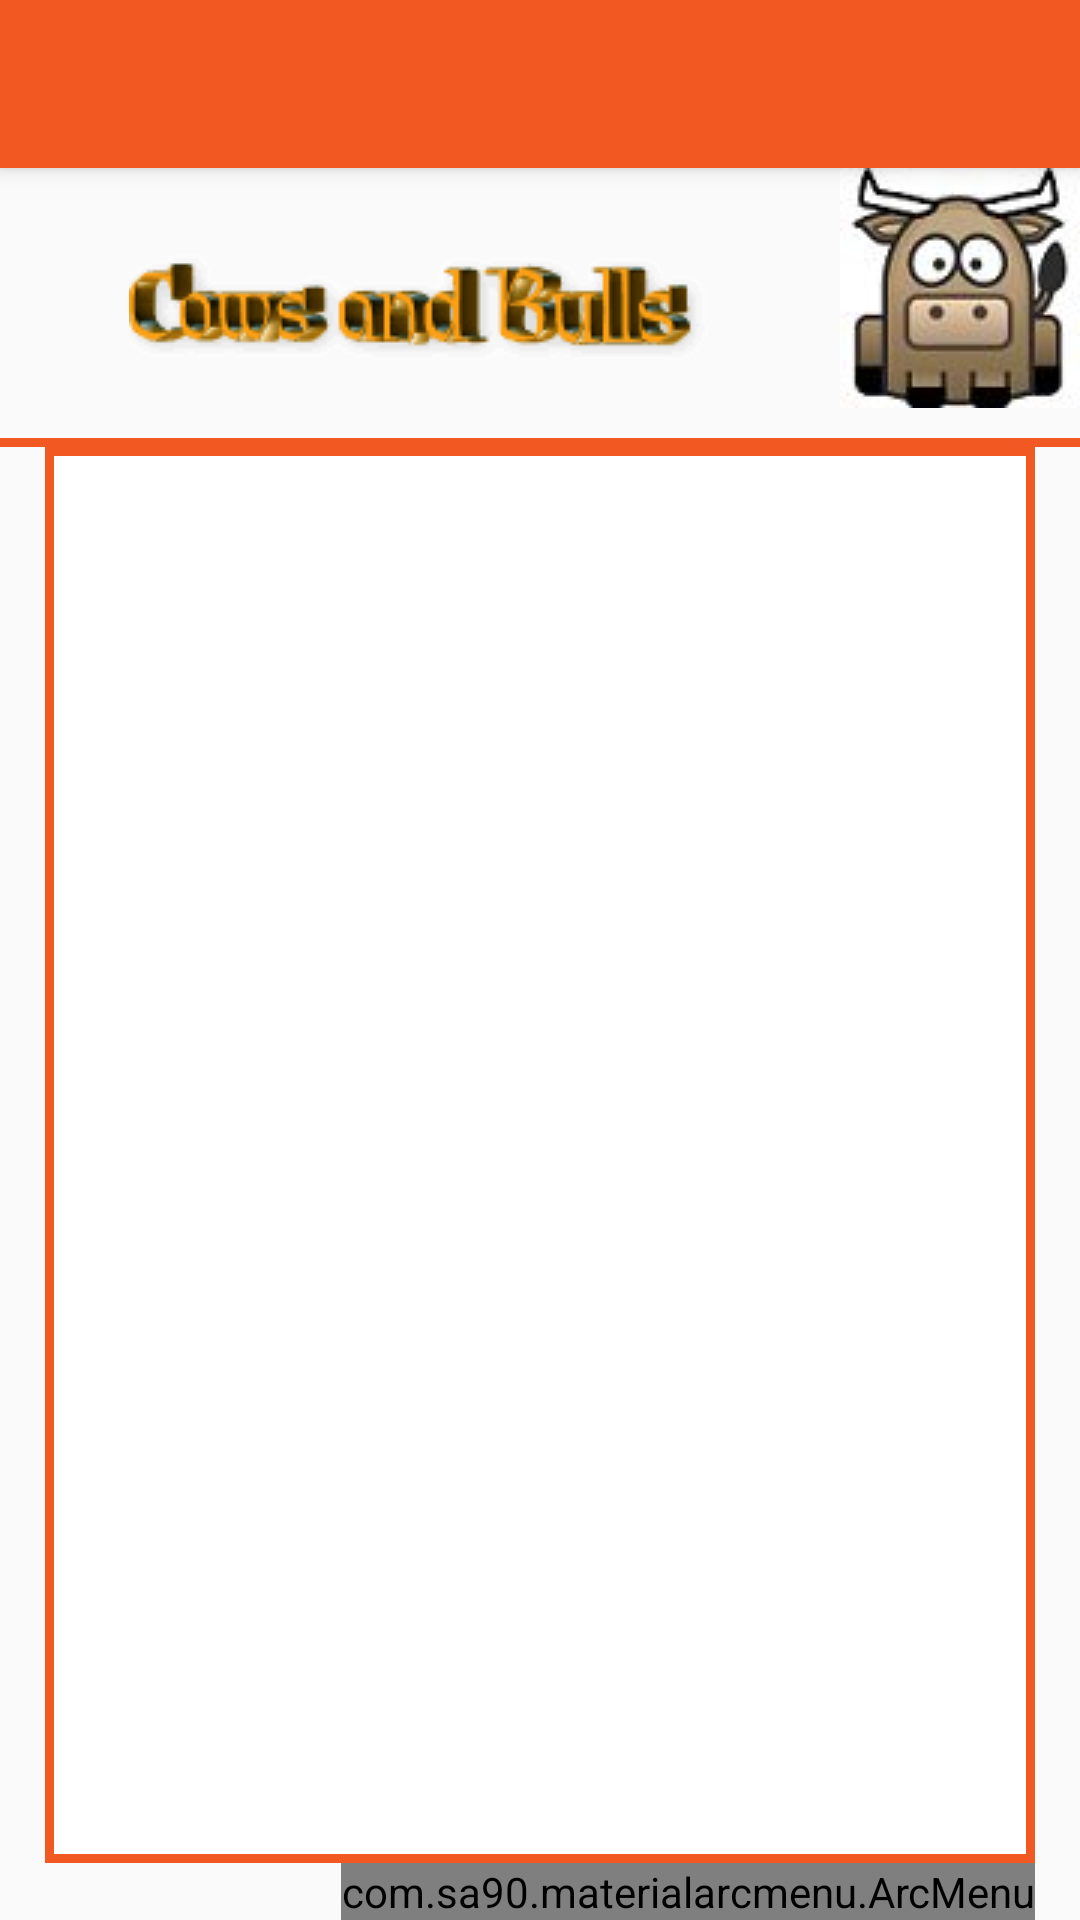

Named icons in this screenshot (1080 x 1920) and their bounding boxes, (x1, y1, x2, y2):
bull: (840, 168, 1076, 408)
